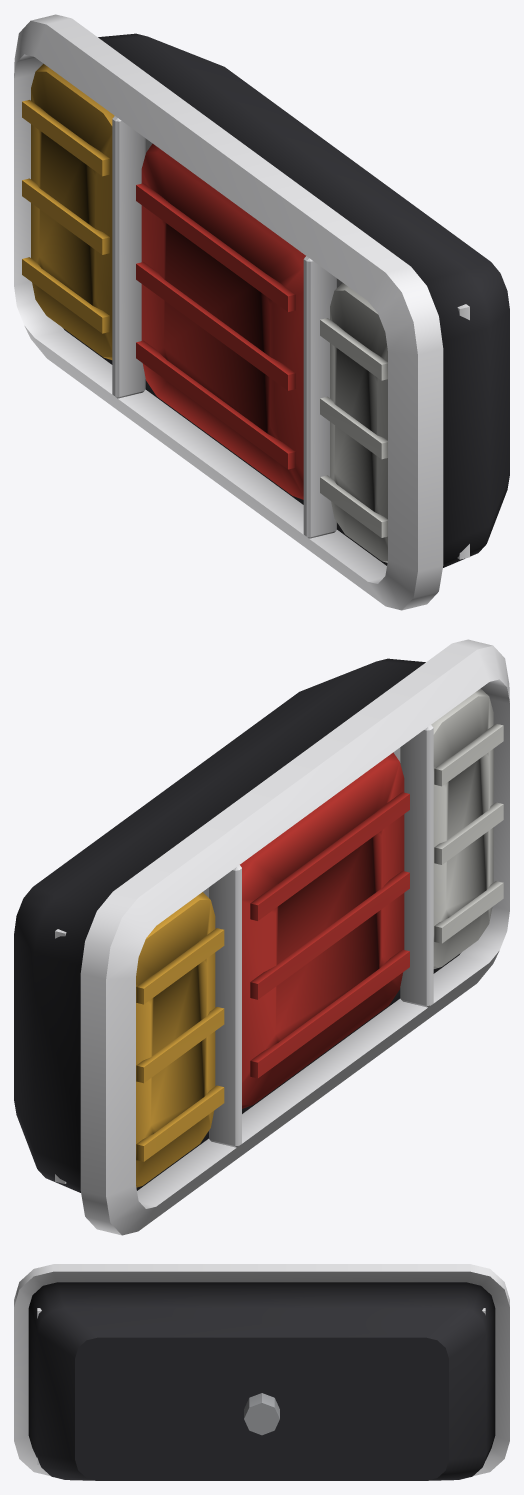
The model's file is tl_stock.glb.
The picture shows the model from 3 angles, top to bottom: view 1: azimuth 30°, elevation 25°; view 2: azimuth 150°, elevation 25°; view 3: azimuth 270°, elevation 25°; orthographic projection. The views are drawn at different scales.
Visible parts, largest first — view 1: PART; view 2: PART; view 3: PART.
Part boxes in pixels (x1,y1,x2,y2): PART: (14, 14, 509, 610); PART: (14, 639, 509, 1235); PART: (14, 1264, 509, 1480).
Size of the model in its own units: 0.076 by 0.126 by 0.276.
